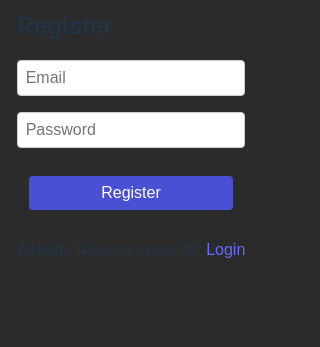
Register Component › failed registration shows error message
The image size is (320, 347).
Type "fail@example.com" into the field with placeholder "Email".
click(131, 78); type("fail@example.com")  # box [17,60,245,96]
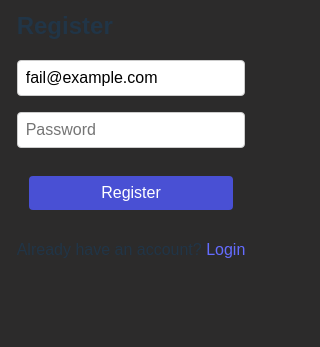
Type "wrongpass" into the password field with placeholder "Password".
click(131, 130); type("wrongpass")  # box [17,112,245,148]
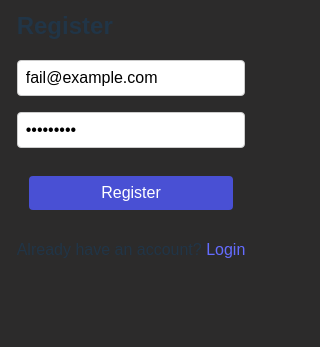
Click the button "Register".
click(131, 193)  # box [29,176,233,210]
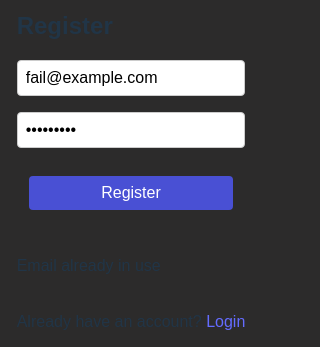
Expected: the text "Email already in use" is shown, [17,257,161,274]
